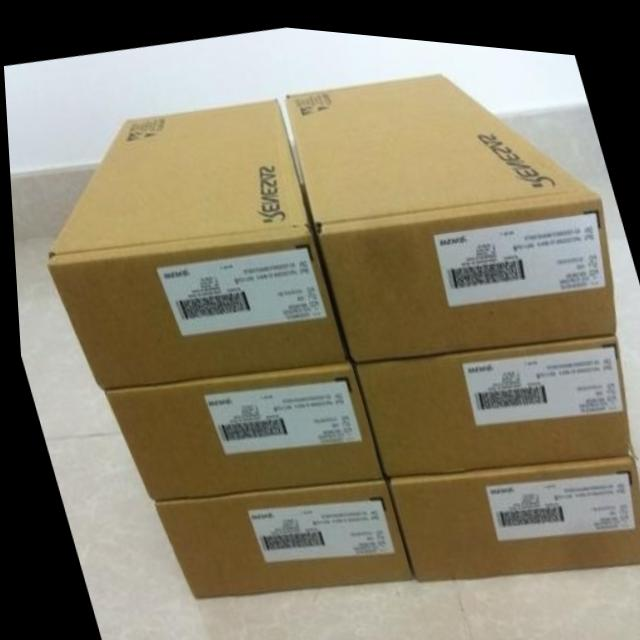box: (282, 63, 613, 355), (42, 92, 342, 388), (351, 322, 627, 469), (99, 356, 379, 499), (381, 443, 640, 573), (147, 473, 406, 595)
